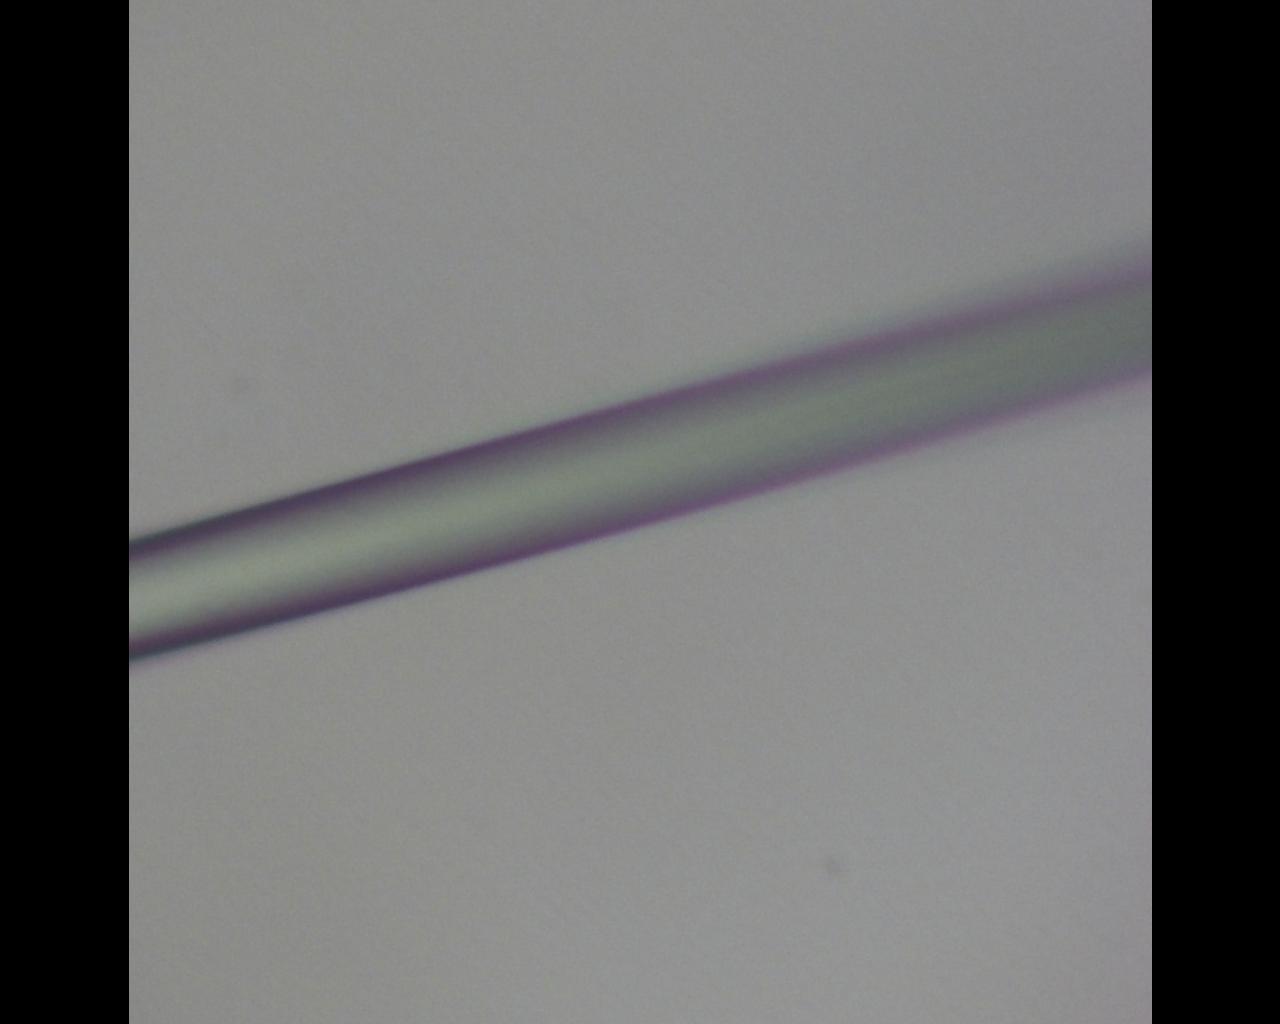fiber: (0, 813, 716, 1024), (332, 0, 581, 471), (951, 0, 1168, 471)
